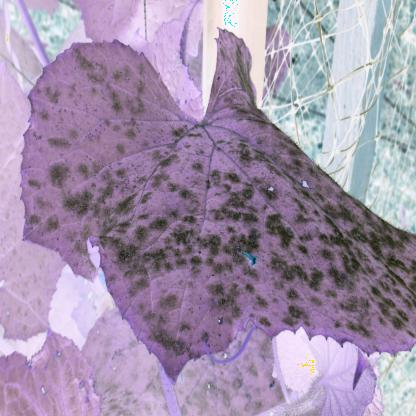Squash Powdery mildew leaf: (14, 24, 416, 389)
